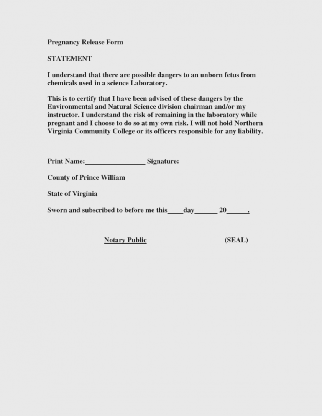textline: (84, 152, 147, 167), (226, 203, 251, 218), (193, 207, 221, 219), (167, 203, 183, 219)
